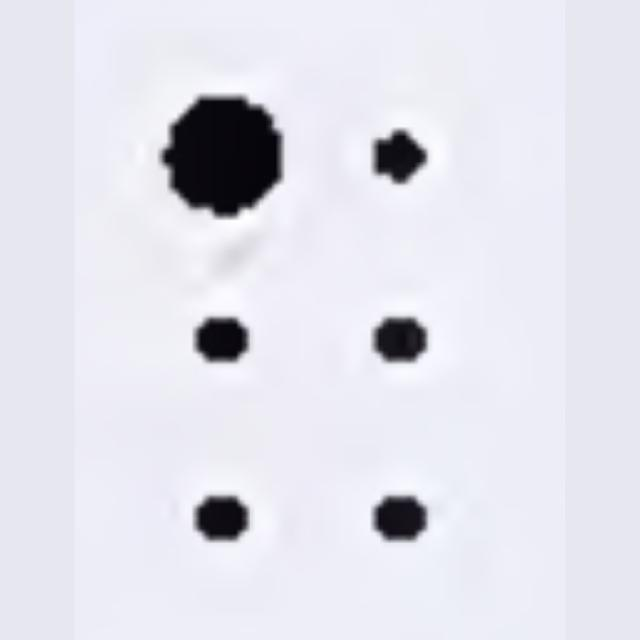letter_a: (173, 96, 428, 550)
